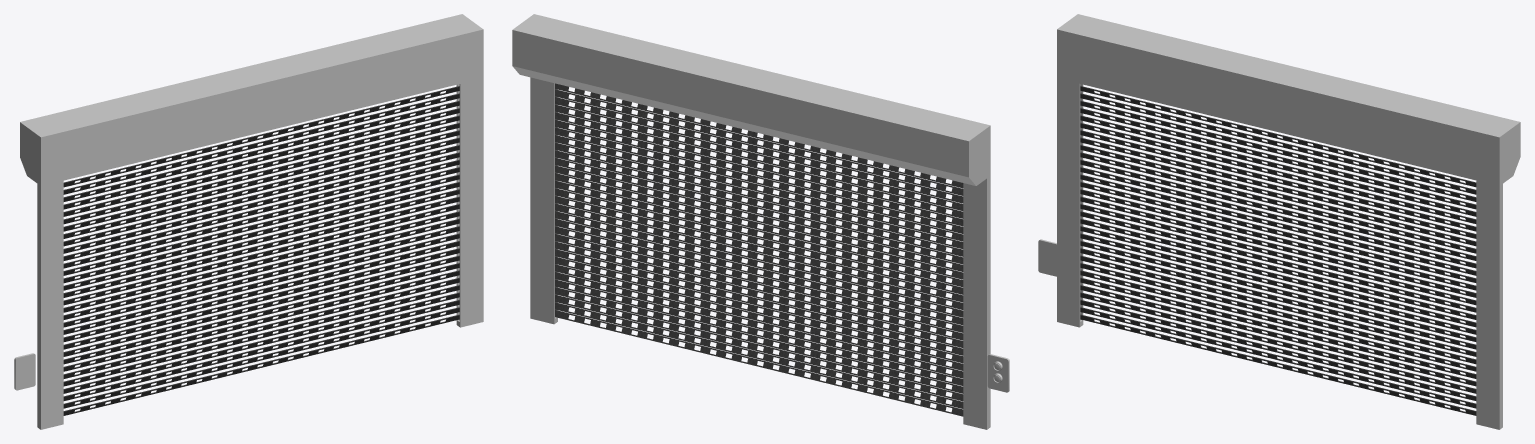
File: window_blind.fbx
The picture shows the model from 3 angles, left to right: view 1: azimuth 30°, elevation 25°; view 2: azimuth 150°, elevation 25°; view 3: azimuth 330°, elevation 25°; orthographic projection. The views are drawn at different scales.
Visible parts, largest first — view 1: жалюзи, коробка сверху, подложка; view 2: жалюзи, коробка сверху, подложка; view 3: жалюзи, коробка сверху, подложка.
Part boxes in pixels (x1,y1,x2,y2): жалюзи: (63,86,459,415); коробка сверху: (20,14,483,429); подложка: (14,353,35,390); жалюзи: (555,83,963,416); коробка сверху: (512,14,990,429); подложка: (987,354,1009,392); жалюзи: (1080,86,1476,415); коробка сверху: (1057,14,1520,429); подложка: (1038,239,1056,276).
Size of the model in its own units: 199 by 120 by 15.66.
